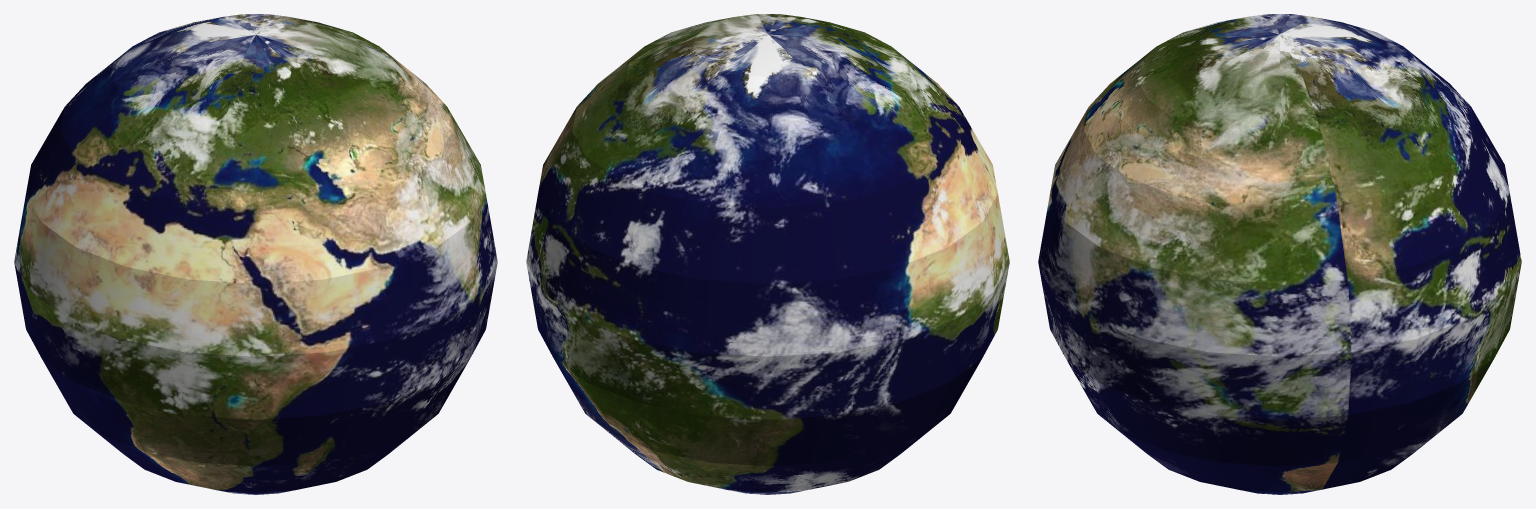
File: ball1.fbx
3 renders of one model, left to right at view 1: azimuth 30°, elevation 25°; view 2: azimuth 150°, elevation 25°; view 3: azimuth 270°, elevation 25°, orthographic.
Parts seen in each view (by area): view 1: pSphere2; view 2: pSphere2; view 3: pSphere2.
Boxes of the visible parts, x1,y1,x2,y2 form: pSphere2: [14, 14, 497, 494]; pSphere2: [526, 14, 1009, 494]; pSphere2: [1038, 14, 1521, 494].
Size of the model in its own units: 1.52 by 1.52 by 1.52.
1 material, 1 textured.
